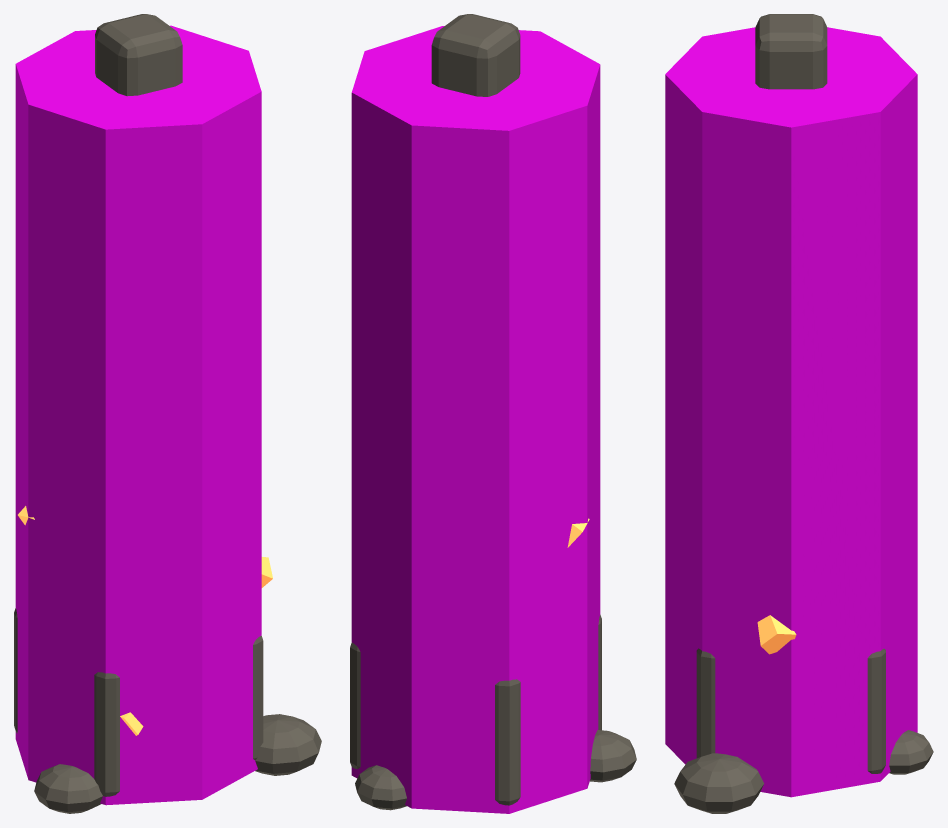
The model's file is copper_spire.glb.
3 renders of one model, left to right at view 1: azimuth 30°, elevation 25°; view 2: azimuth 150°, elevation 25°; view 3: azimuth 270°, elevation 25°, orthographic.
Parts seen in each view (by area): view 1: Col_main, Tier4, Tier0, Rubble0, Rubble1; view 2: Col_main, Tier4, Tier0, Rubble1, Rubble2; view 3: Col_main, Tier4, Tier0, Rubble0, Rubble2, Vein0.
Boxes of the visible parts, x1,y1,x2,y2 form: Col_main: (15, 25, 261, 805); Tier4: (95, 14, 182, 96); Tier0: (14, 608, 263, 796); Rubble0: (255, 714, 321, 775); Rubble1: (34, 764, 102, 813); Col_main: (351, 26, 600, 813); Tier4: (431, 14, 520, 96); Tier0: (350, 614, 601, 805); Rubble1: (590, 730, 636, 782); Rubble2: (355, 765, 406, 810); Col_main: (665, 27, 917, 797); Tier4: (755, 14, 827, 89); Tier0: (696, 648, 885, 773); Rubble0: (674, 753, 764, 813); Rubble2: (889, 730, 933, 774); Vein0: (757, 615, 796, 654).
Size of the model in its own units: 3.37 by 9 by 2.98.
